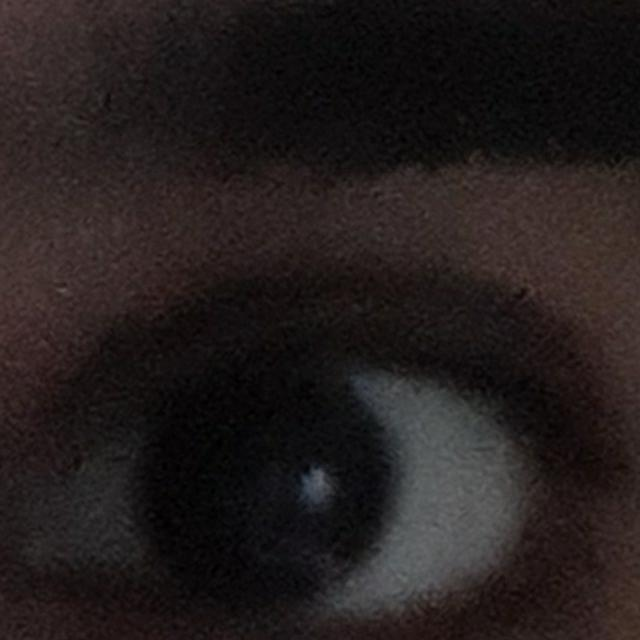eye: (24, 360, 536, 626)
iris: (132, 374, 392, 599)
